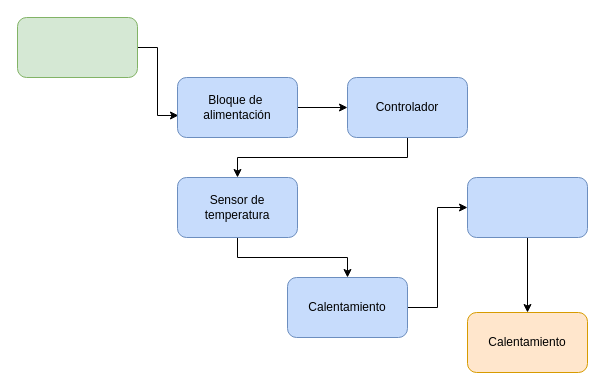
The diagram is 605 pixels wide and 390 high, and some of its shapes have lost their labels. Each missing label, with the box of its shape:
Encendido/ apagado: (16, 16, 138, 78)
Recipiente: (466, 176, 588, 238)
